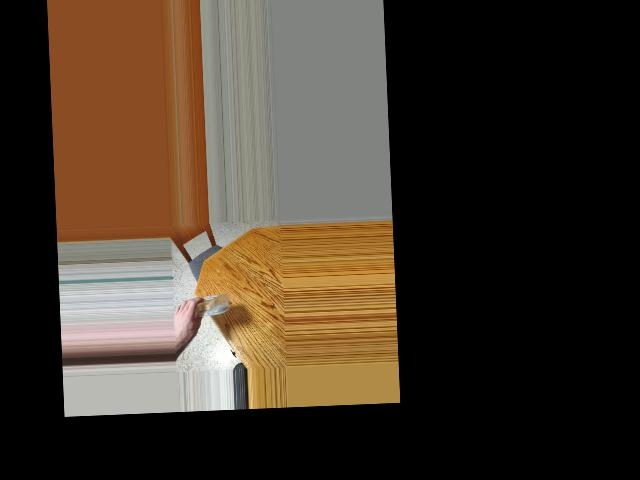cheese: (183, 285, 231, 335)
